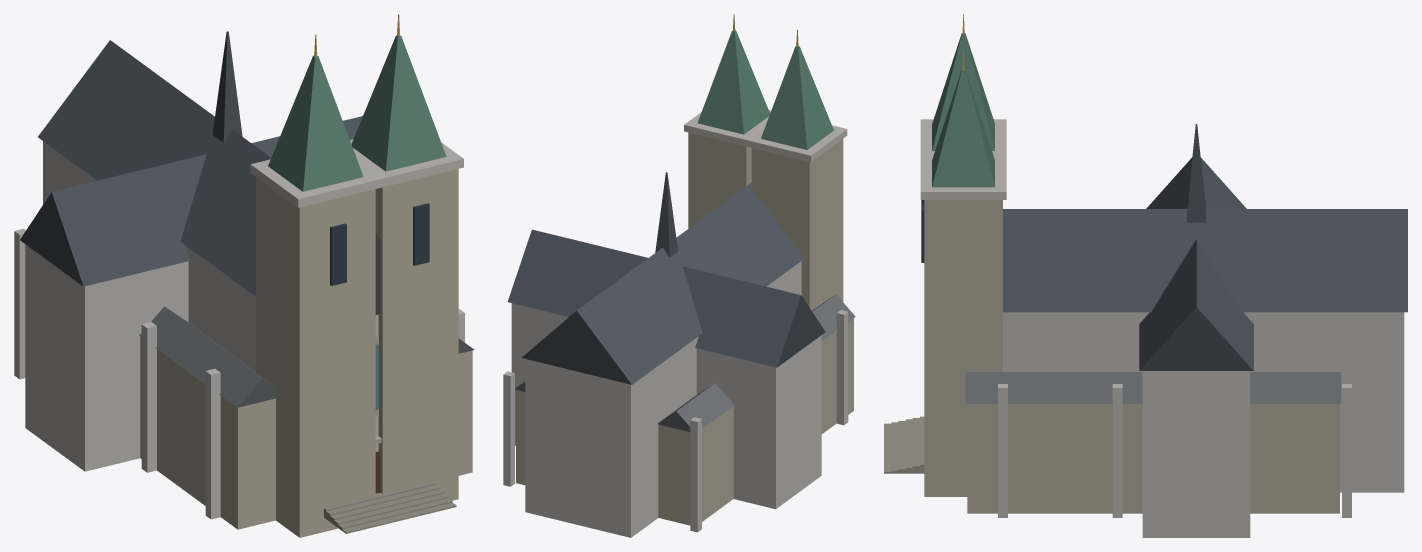
Rendered from mobile.glb.
3 views of the same model, side by side, from view 1: azimuth 30°, elevation 25°; view 2: azimuth 150°, elevation 25°; view 3: azimuth 270°, elevation 25° (orthographic). The views are drawn at different scales.
Parts seen in each view (by area): view 1: lm.grace-cathedral; view 2: lm.grace-cathedral; view 3: lm.grace-cathedral.
Part boxes in pixels (left/top/right/bottom): lm.grace-cathedral: left=14, top=14, right=474, bottom=537; lm.grace-cathedral: left=503, top=14, right=855, bottom=537; lm.grace-cathedral: left=884, top=14, right=1407, bottom=537.
Size of the model in its own units: 51 by 66.2 by 73.1.
